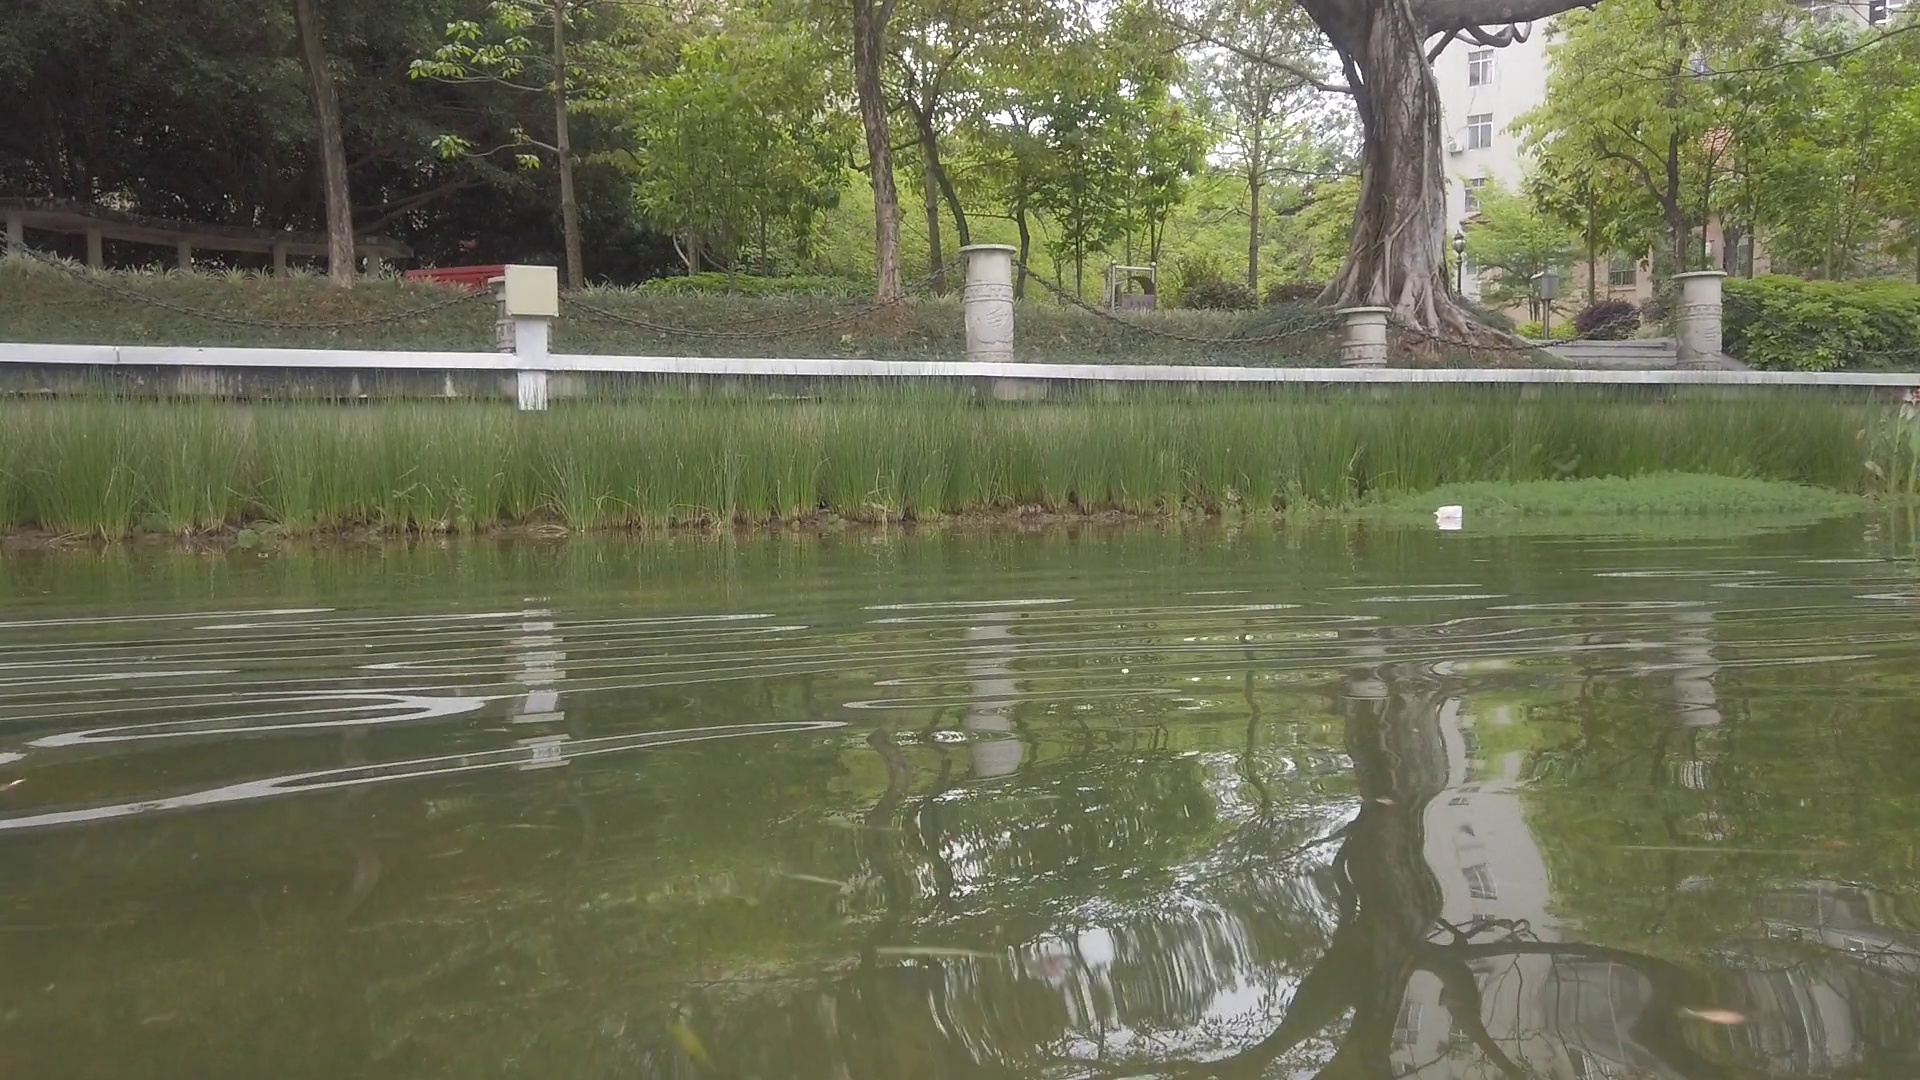carton: (1435, 505, 1464, 518)
